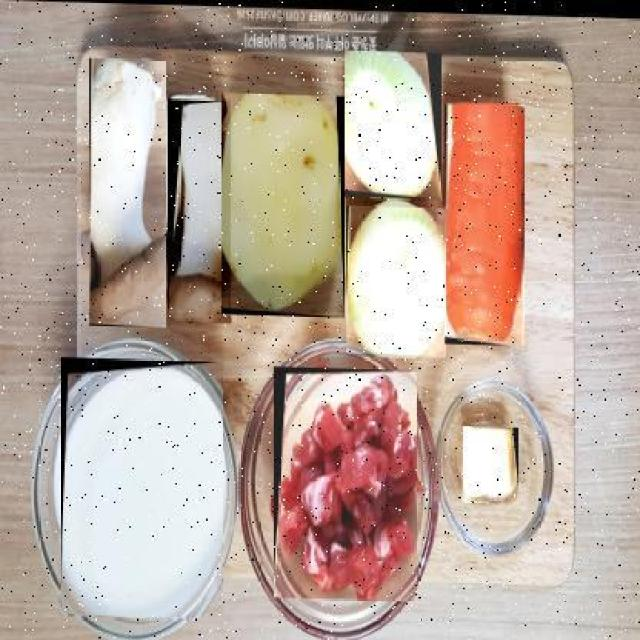Carrot: (442, 102, 523, 342)
